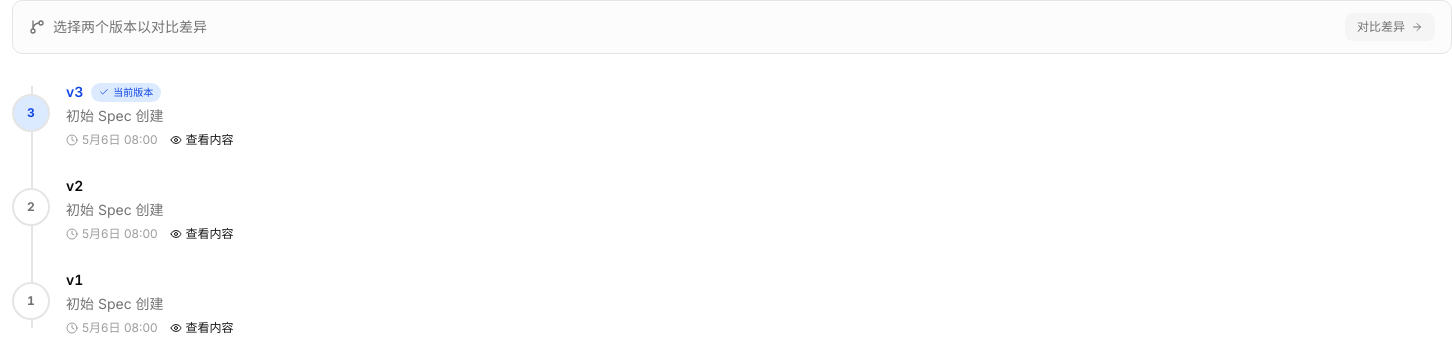
VersionTimeline › Version selection › replaces oldest selection when selecting a third version
What coordinates should you click on to do the following:
click the button named "选择 v1"
I would click on:
 (31, 301)
Its box is x1=12 y1=282 x2=50 y2=320.
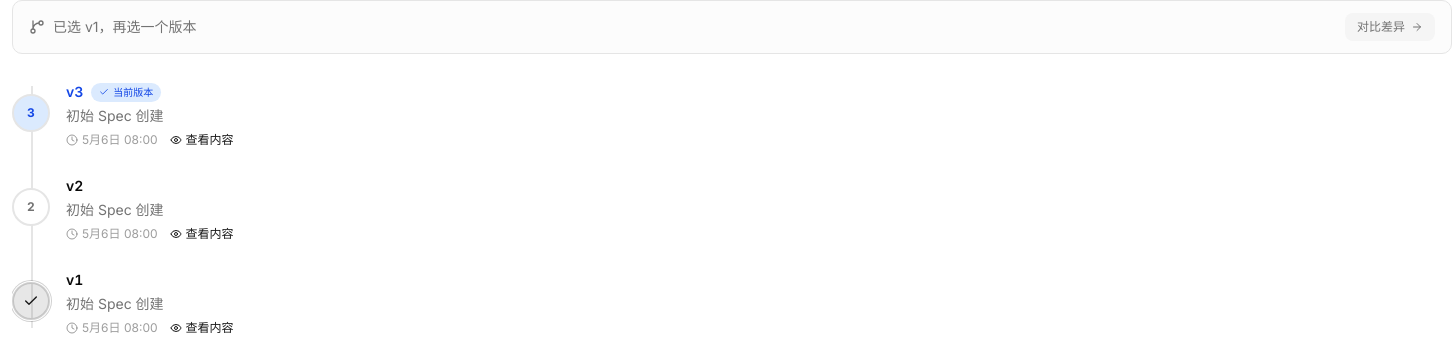
What coordinates should you click on to do the following:
click the button named "选择 v2"
I would click on:
 (31, 207)
Its box is x1=12 y1=188 x2=50 y2=226.
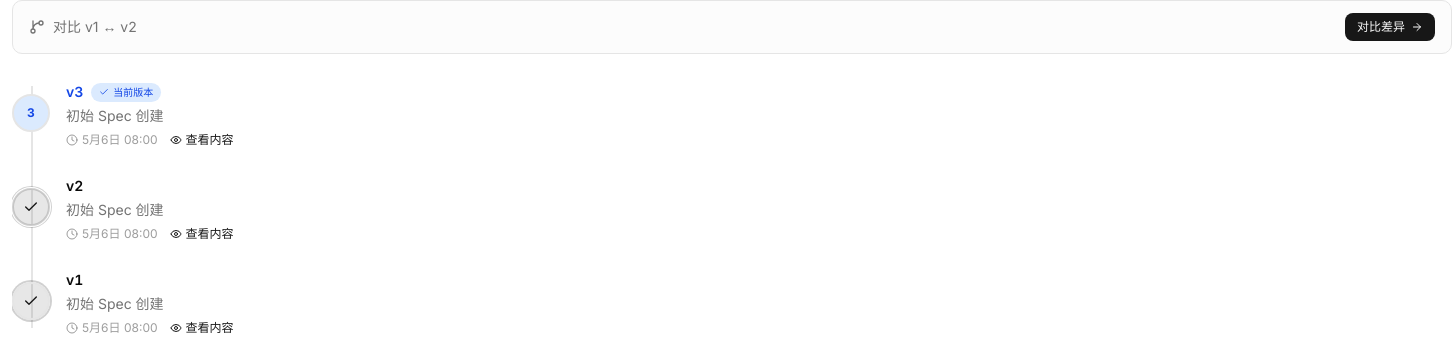
# Now selecting v3 should replace v1 (oldest selection)
What coordinates should you click on to do the following:
click the button named "选择 v3"
I would click on:
 (31, 113)
Its box is x1=12 y1=94 x2=50 y2=132.
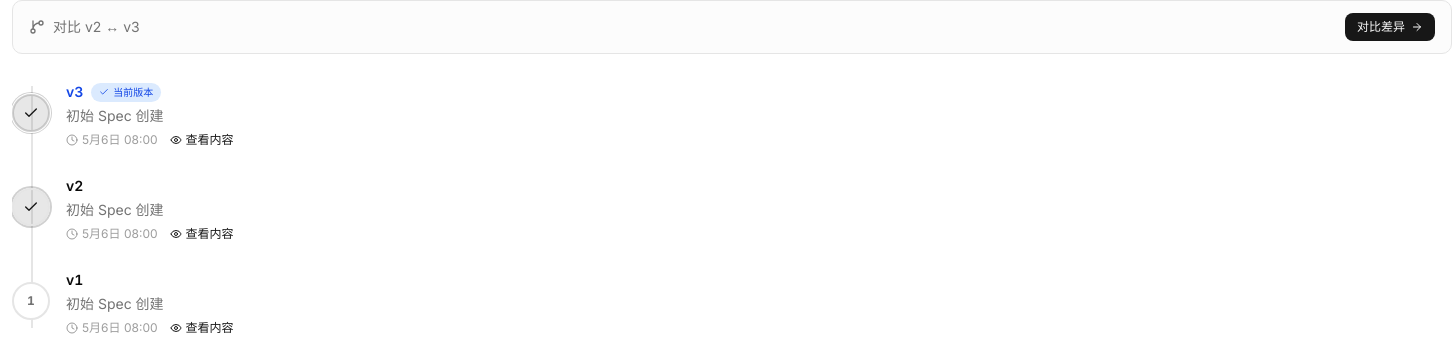
expect the text "对比 v2 ↔ v3" is shown: met, box x1=53 y1=17 x2=140 y2=37
